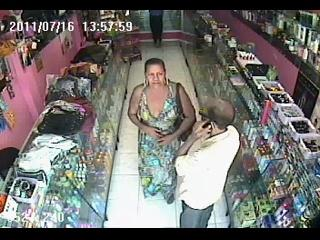Normal: (127, 58, 197, 210), (173, 96, 240, 227), (148, 10, 164, 48)
